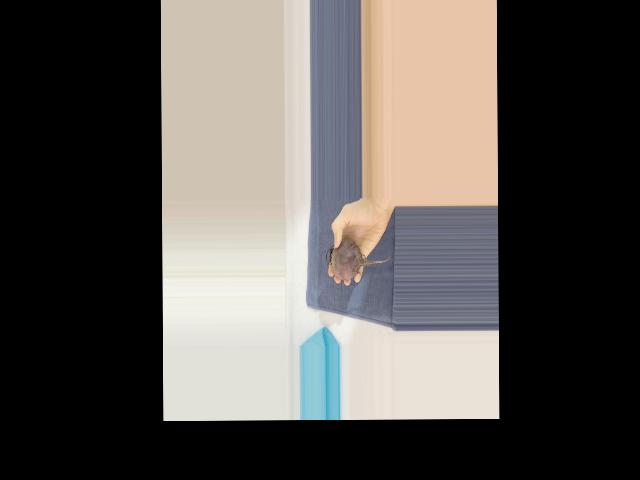beet: (326, 239, 390, 280)
